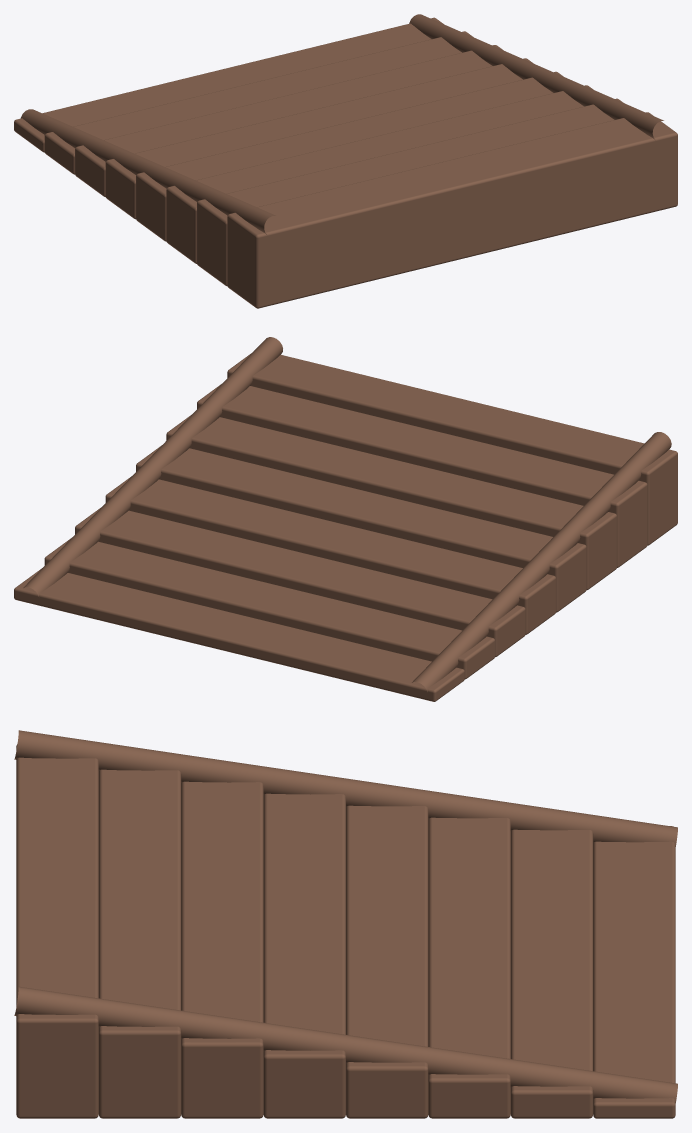
The model's file is griffin-airmail-roost-and-posthouse-platform-approach--e146771b__30496.glb.
3 renders of one model, top to bottom at view 1: azimuth 30°, elevation 25°; view 2: azimuth 150°, elevation 25°; view 3: azimuth 270°, elevation 25°, orthographic. The views are drawn at different scales.
Visible parts, largest first — view 1: platform-approach-ramp; view 2: platform-approach-ramp; view 3: platform-approach-ramp.
Part boxes in pixels (x1,y1,x2,y2): platform-approach-ramp: [14, 14, 677, 308]; platform-approach-ramp: [14, 337, 677, 701]; platform-approach-ramp: [14, 730, 677, 1118].
Bounding box in the file's own units: 2 × 0.4139 × 2.01.
